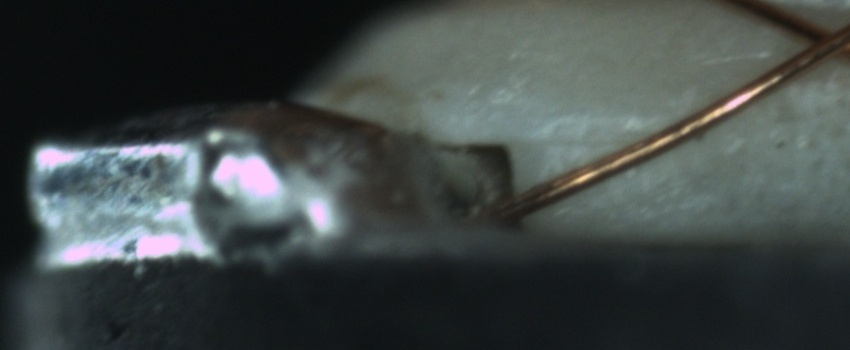CL: (778, 8, 849, 75)
DL: (534, 104, 672, 172)
